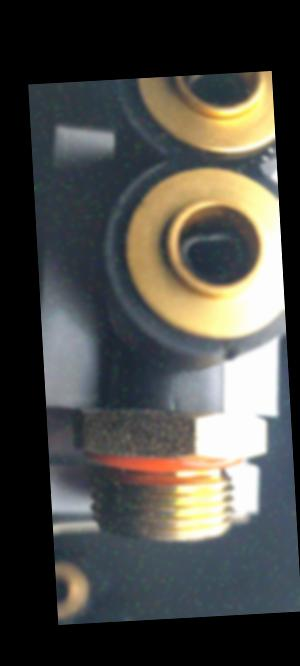bump: (216, 341, 242, 362)
joint line: (170, 369, 179, 398)
off-centered: (177, 211, 253, 285)
white mark: (167, 399, 175, 413)
